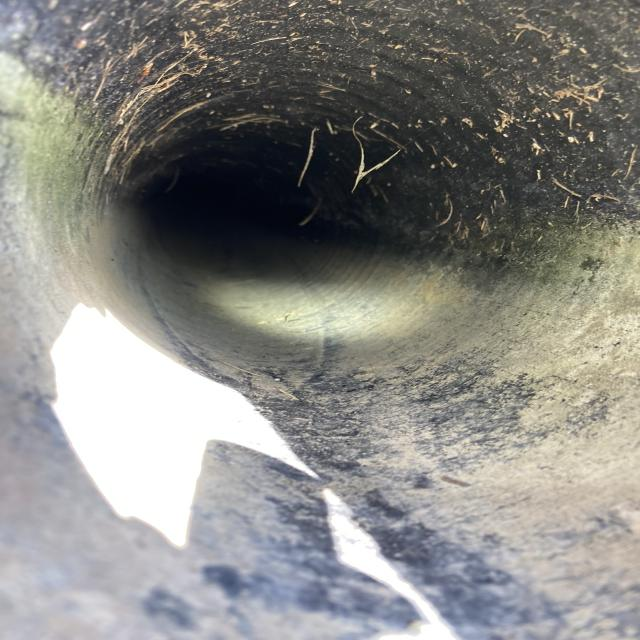root: (119, 50, 211, 161), (297, 122, 407, 204)
